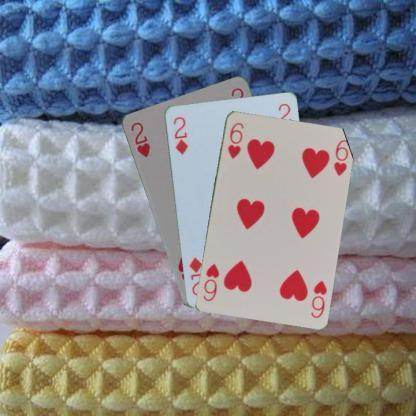2d: (170, 114, 189, 156)
2h: (128, 119, 151, 159)
6h: (308, 277, 328, 319), (225, 120, 245, 160)
